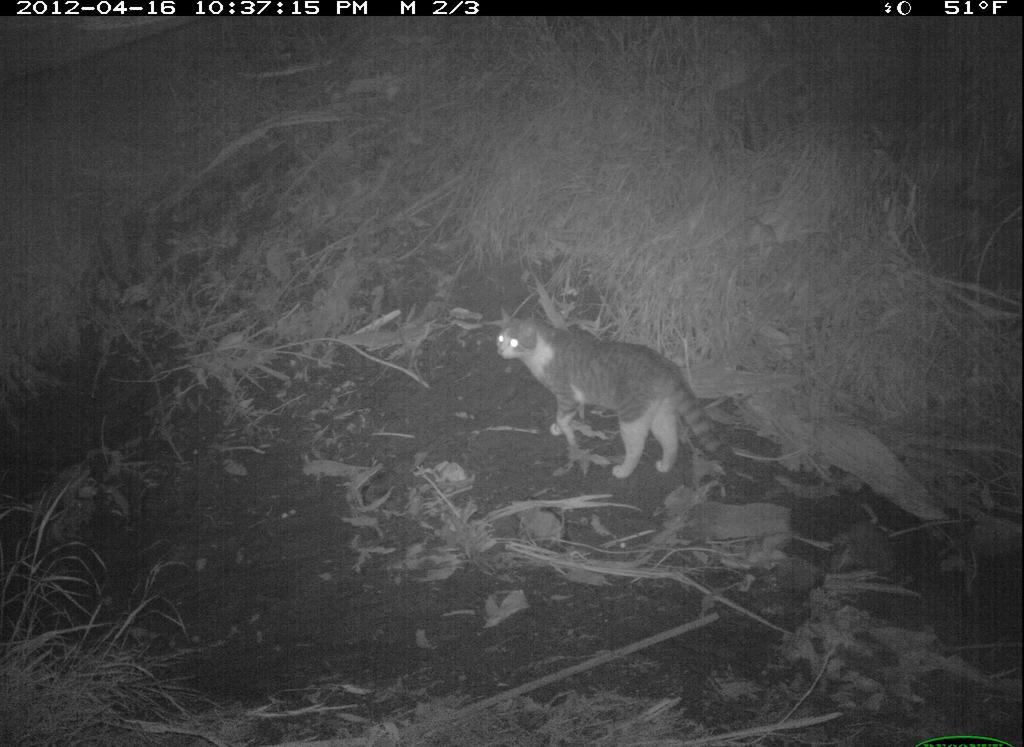cat: (489, 306, 733, 493)
